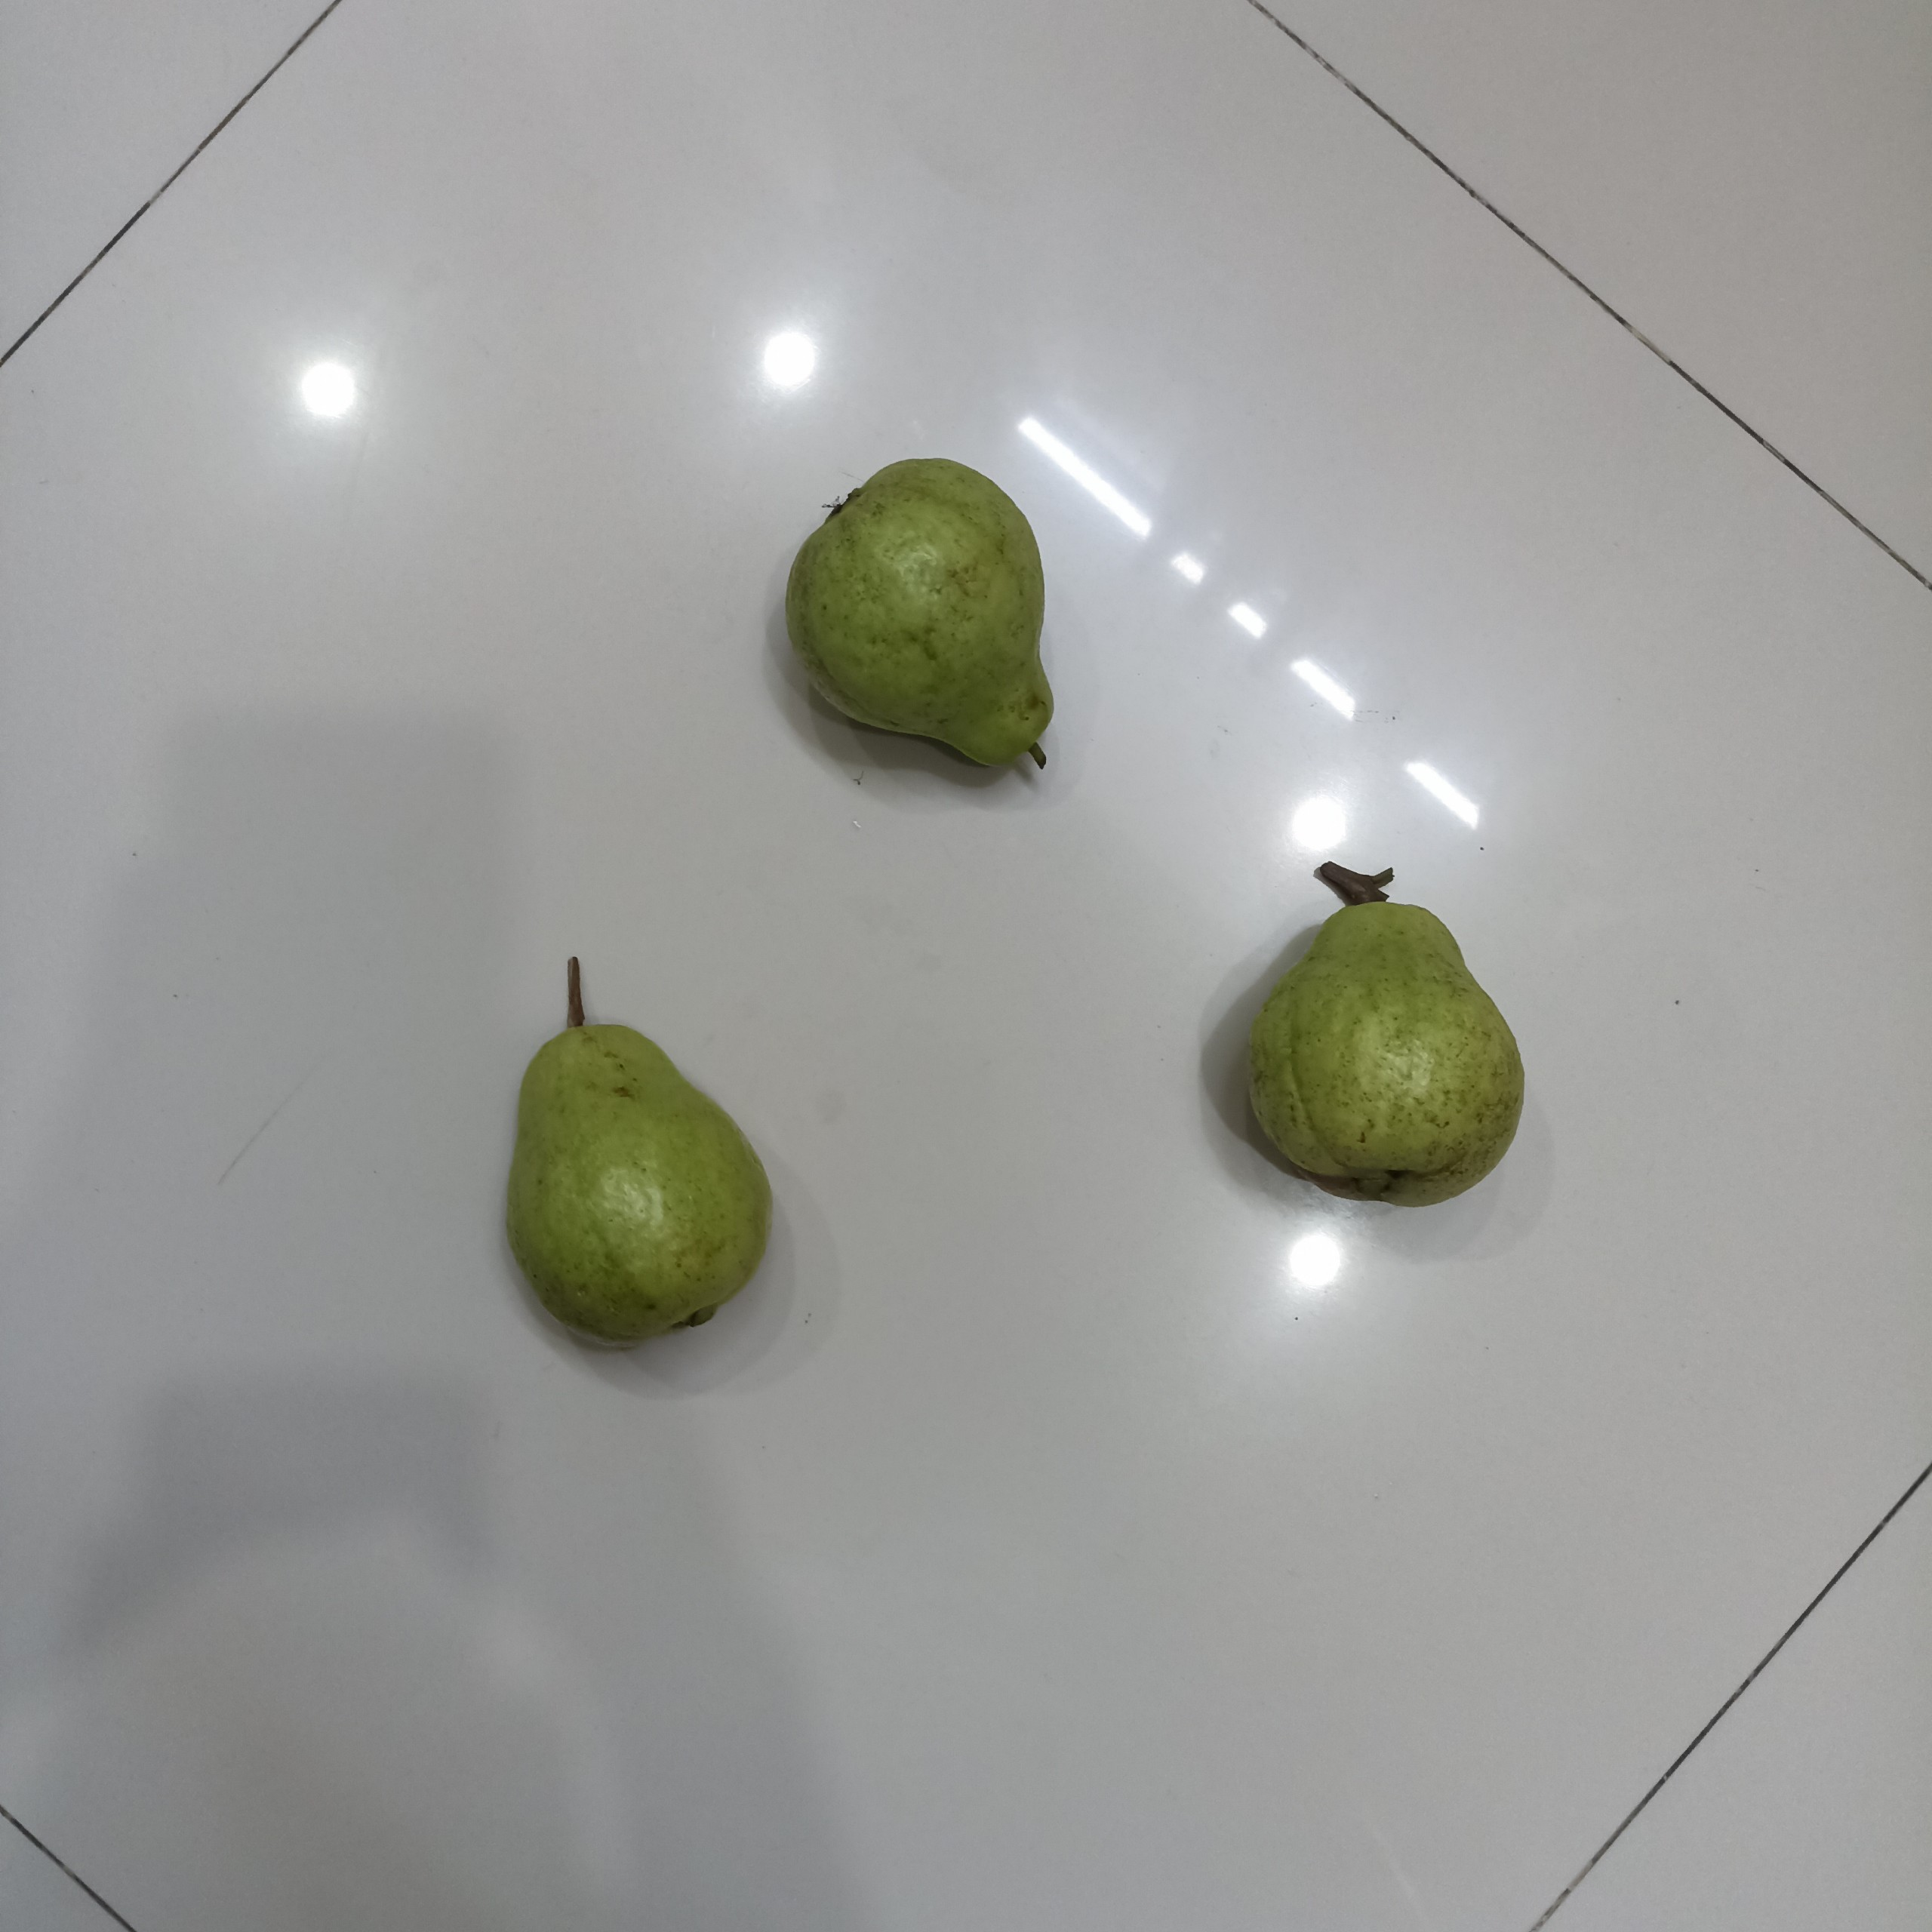Oi: (1244, 874, 1525, 1212), (499, 1012, 777, 1353), (784, 453, 1062, 782)
